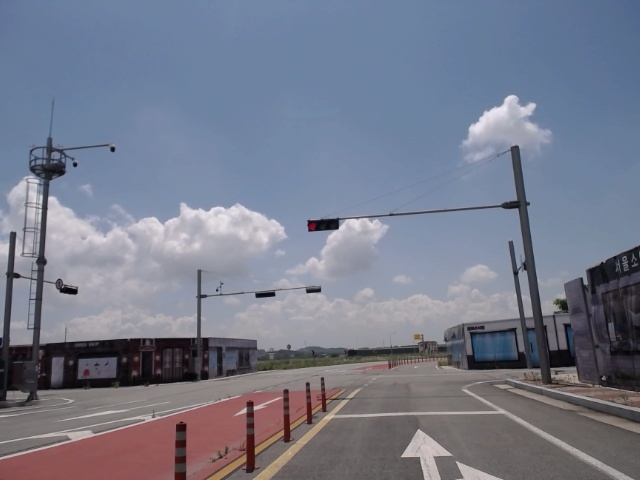red_3: (307, 220, 340, 231)
